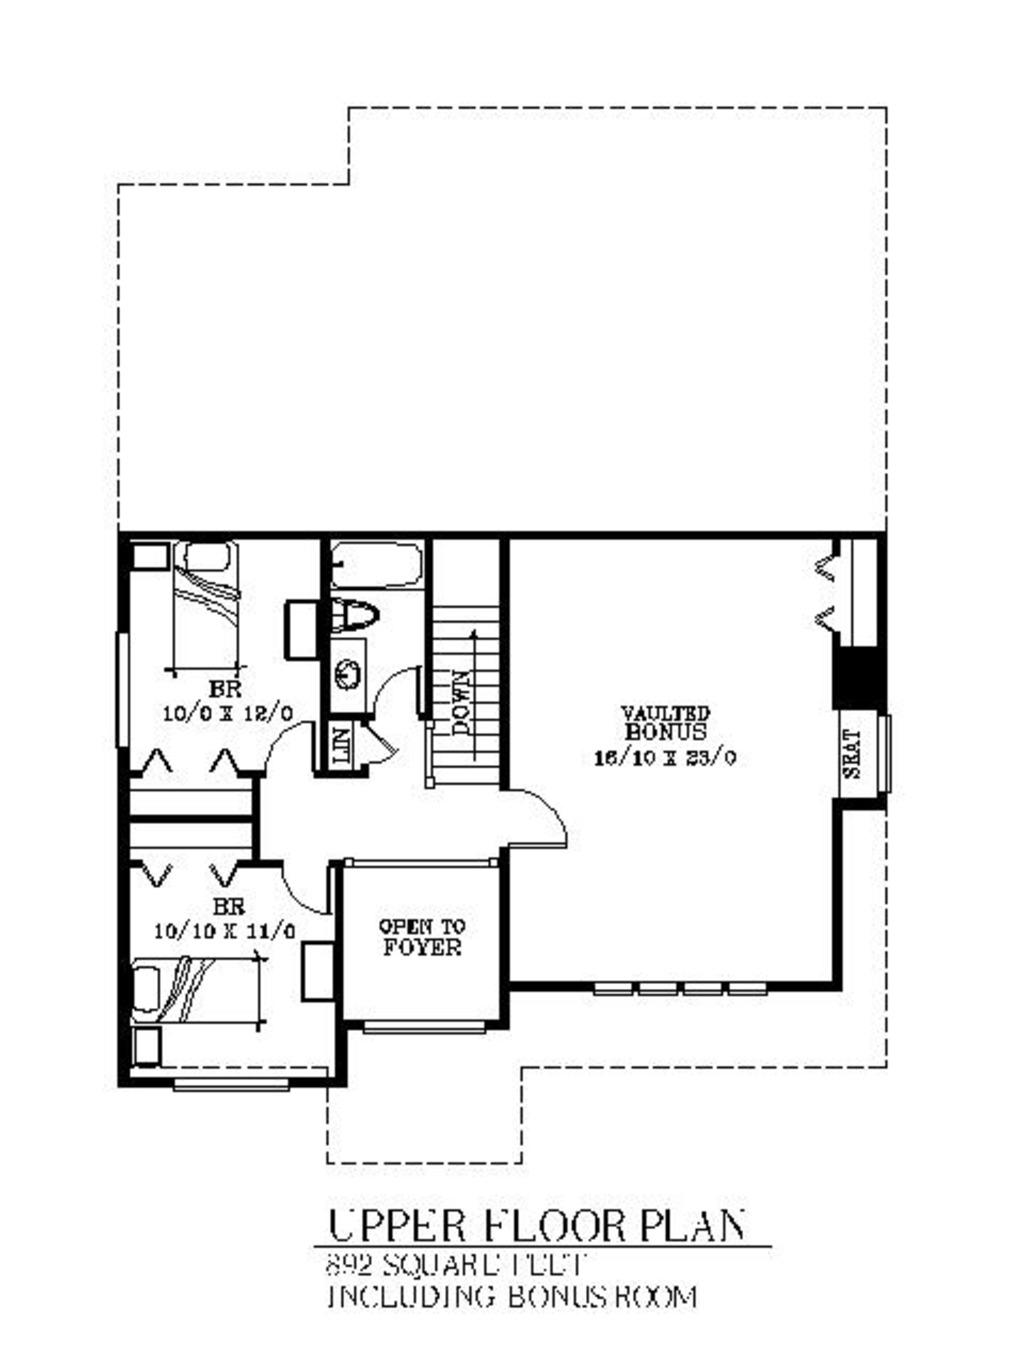bed: (131, 953, 280, 1029), (162, 538, 243, 674)
door: (499, 783, 577, 853), (265, 710, 328, 778), (367, 651, 419, 725), (278, 859, 339, 921), (365, 725, 403, 768)
large_sink: (314, 585, 386, 644)
small_sink: (326, 649, 365, 708)
stairs: (428, 538, 507, 778)
tub: (331, 525, 428, 585)
window: (592, 976, 782, 1000), (114, 629, 136, 751), (867, 710, 899, 791), (360, 1019, 490, 1038), (173, 1072, 288, 1091)
